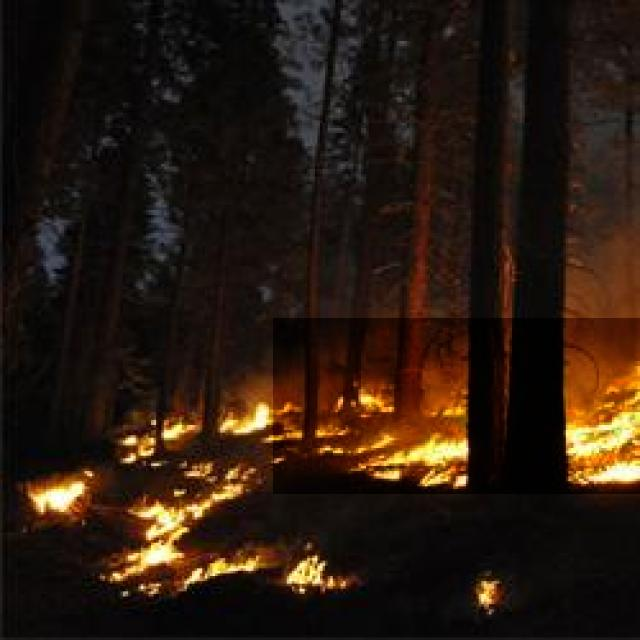Fire: (273, 318, 640, 494)
